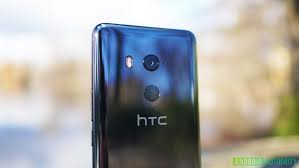htc: (87, 19, 206, 168)
